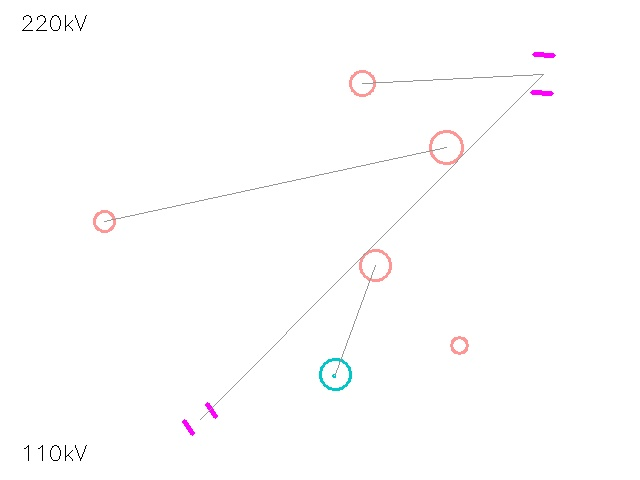capacitor: (511, 42, 575, 106), (176, 395, 224, 443)
current_transformer: (344, 234, 406, 296)
feeder_terminal: (413, 114, 479, 180), (83, 200, 125, 242)
generator: (320, 359, 350, 389)
reactor: (337, 58, 387, 108)
surge_arrester: (443, 329, 475, 361)
